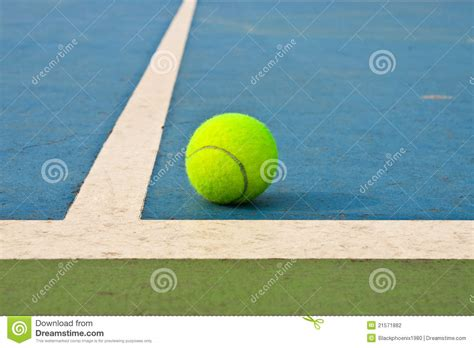tennis_ball: (185, 112, 279, 205)
